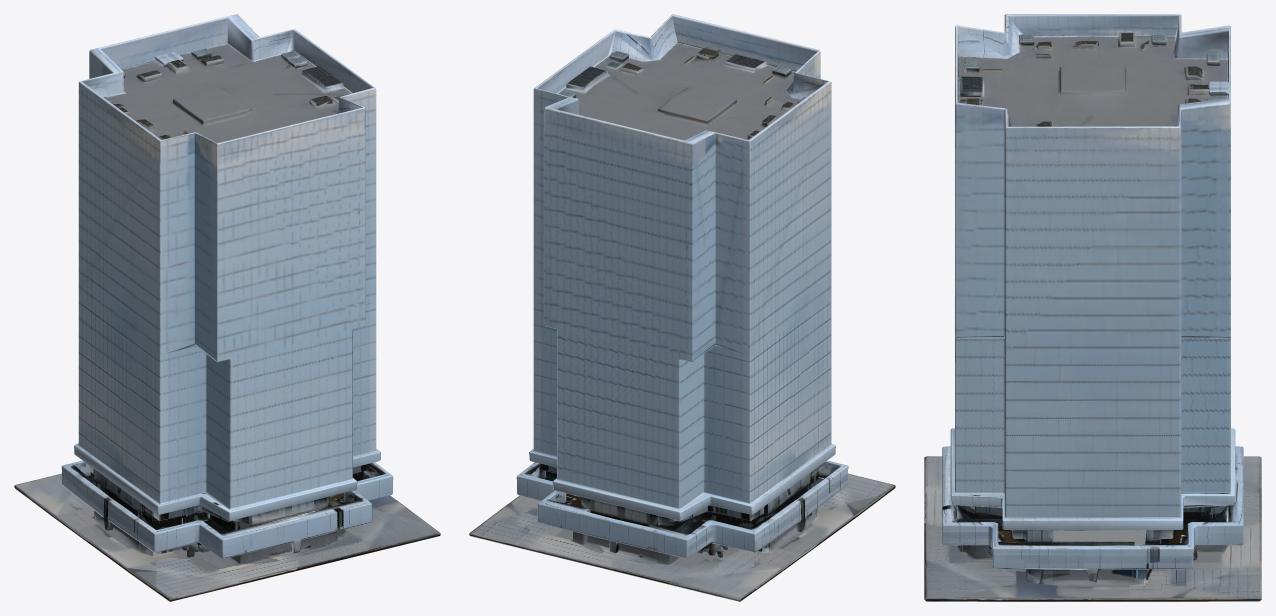
The model's file is skyscraper_0621060111_texture.glb.
3 renders of one model, left to right at view 1: azimuth 30°, elevation 25°; view 2: azimuth 150°, elevation 25°; view 3: azimuth 270°, elevation 25°, orthographic. The views are drawn at different scales.
Parts seen in each view (by area): view 1: Mesh_0.001; view 2: Mesh_0.001; view 3: Mesh_0.001.
Part boxes in pixels (x1,y1,x2,y2): Mesh_0.001: [14, 14, 440, 601]; Mesh_0.001: [469, 14, 895, 601]; Mesh_0.001: [924, 14, 1261, 601].
Size of the model in its own units: 58.26 by 88.39 by 57.9.
Materials: 1 (1 with a texture image).
